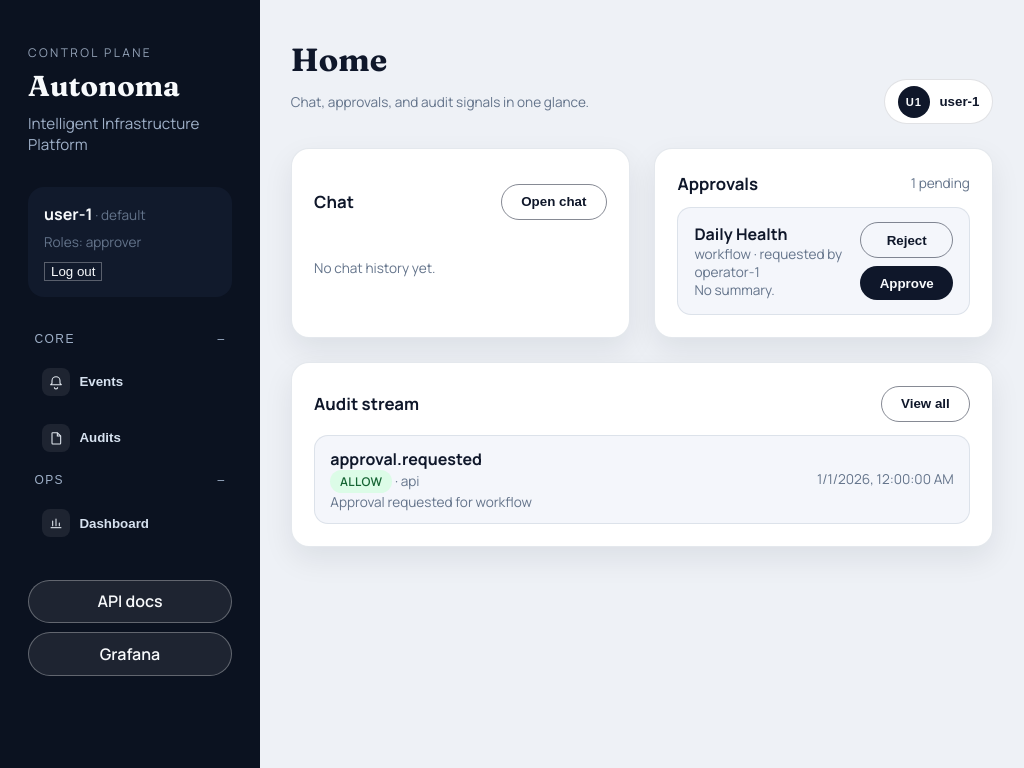
Test case: App auth flow › renders approvals inbox when approvals are returned
This screenshot has width=1024, height=768.
Expected: the heading "Approvals" is shown, top-left (677, 172), bottom-right (758, 195)
Expected: the text "Daily Health" is shown, top-left (694, 223), bottom-right (788, 245)
Click the button "Audits" at (130, 438), box top-left (28, 413), bottom-right (232, 462)
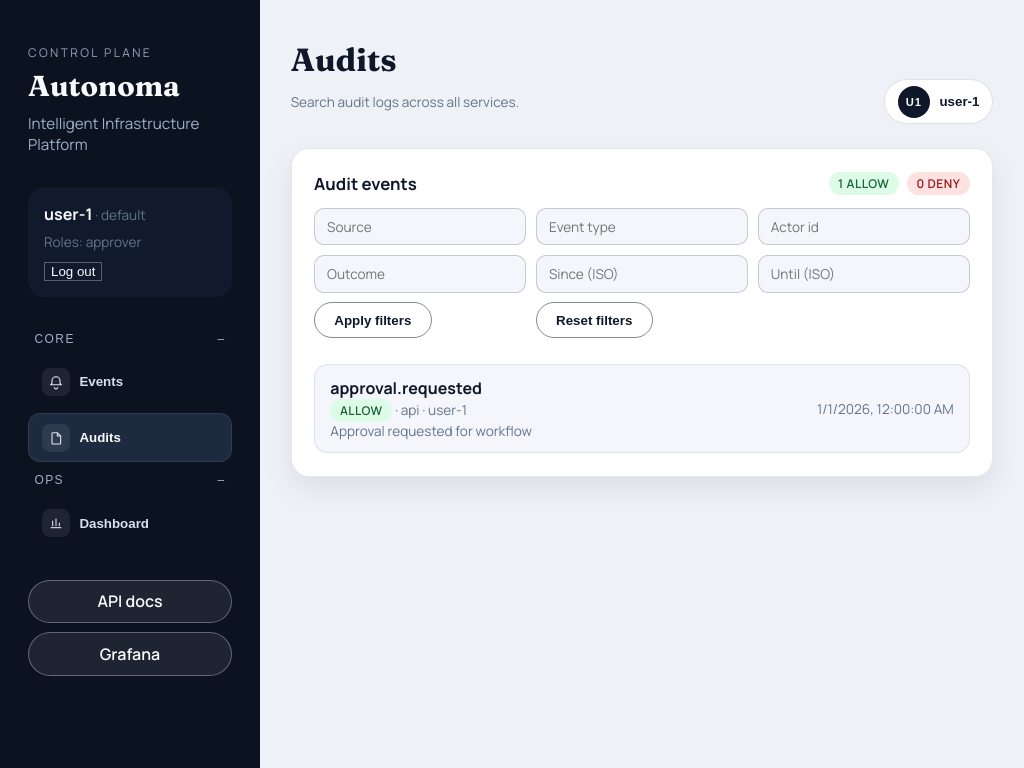
Expected: the button "Apply filters" is shown, top-left (314, 302), bottom-right (432, 338)
Expected: the button "Reset filters" is shown, top-left (536, 302), bottom-right (653, 338)
